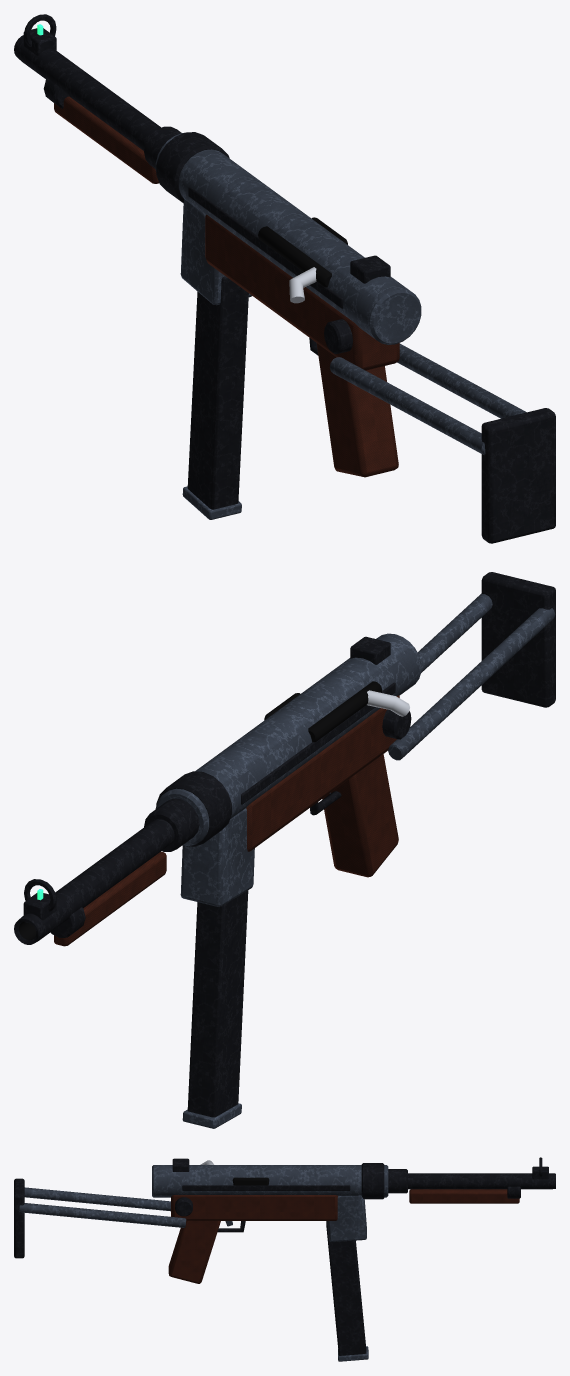
The picture shows the model from 3 angles, top to bottom: view 1: azimuth 30°, elevation 25°; view 2: azimuth 150°, elevation 25°; view 3: azimuth 270°, elevation 25°; orthographic projection. The views are drawn at different scales.
Parts seen in each view (by area): view 1: Receiver, Magazine; view 2: Receiver, Magazine, Bolt; view 3: Receiver, Magazine.
Part boxes in pixels (x1,y1,x2,y2): Receiver: (14, 14, 555, 543); Magazine: (182, 276, 248, 519); Receiver: (14, 572, 555, 946); Magazine: (182, 890, 248, 1128); Bolt: (367, 690, 409, 716); Receiver: (14, 1157, 555, 1283); Magazine: (326, 1221, 368, 1361).
Size of the model in its own units: 0.0796 by 0.289 by 0.711.
6 materials, 3 textured.
